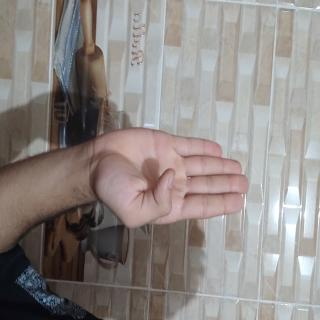KAAF: (93, 87, 176, 318)
